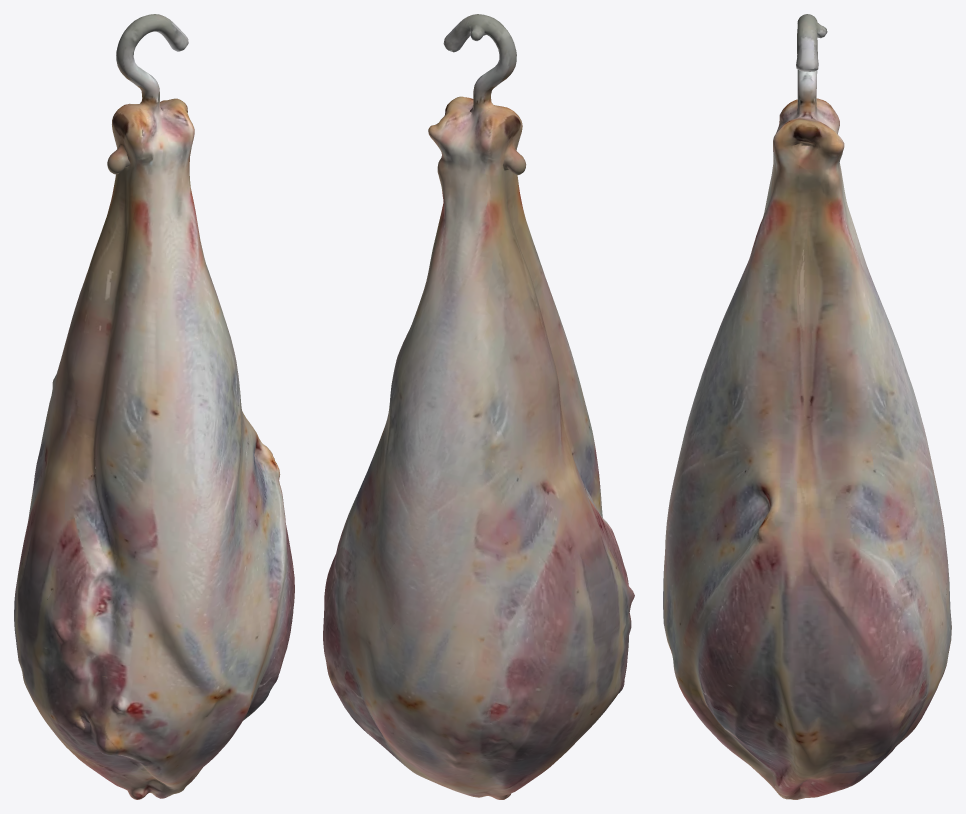
The model's file is pork-half.glb.
The picture shows the model from 3 angles, left to right: view 1: azimuth 30°, elevation 25°; view 2: azimuth 150°, elevation 25°; view 3: azimuth 270°, elevation 25°; orthographic projection.
Parts seen in each view (by area): view 1: cowninja-pork-half; view 2: cowninja-pork-half; view 3: cowninja-pork-half.
Boxes of the visible parts, <box> form: cowninja-pork-half: <box>14,14,294,799</box>; cowninja-pork-half: <box>323,14,634,799</box>; cowninja-pork-half: <box>663,14,951,799</box>.
Size of the model in its own units: 0.4791 by 1.4 by 0.4715.
Materials: 1 (1 with a texture image).
